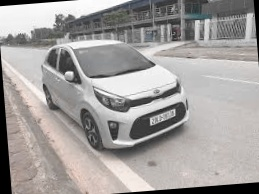Bien-so: (140, 119, 166, 135)
